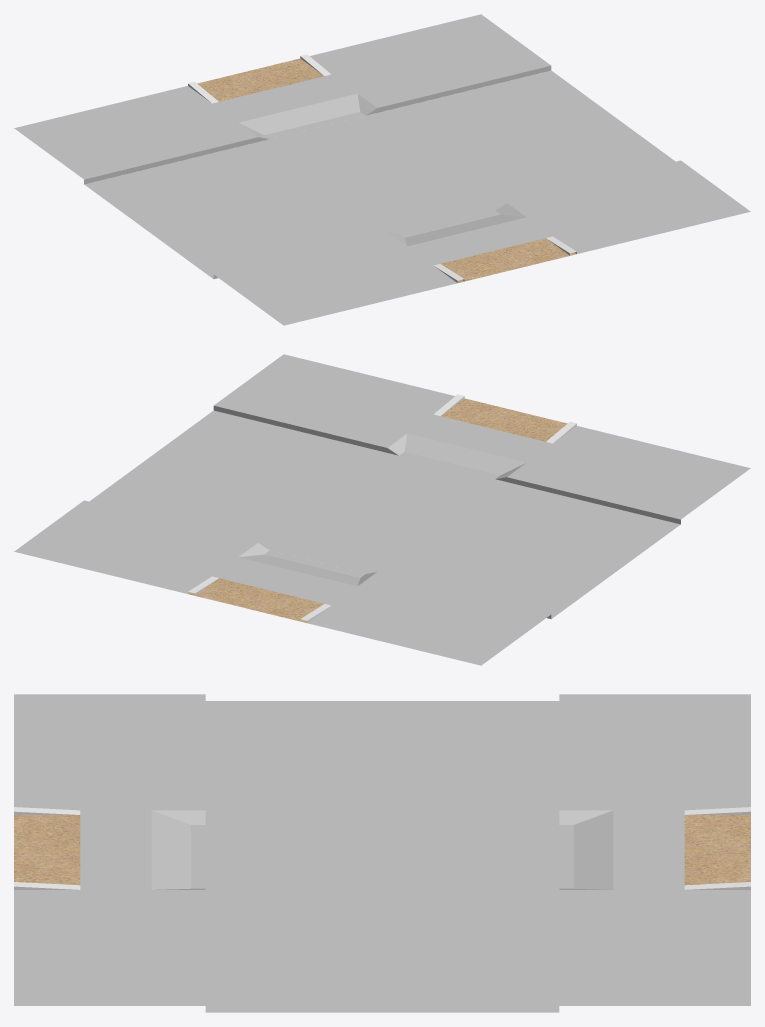
The model's file is Park_Gates_2.fbx.
The picture shows the model from 3 angles, top to bottom: view 1: azimuth 30°, elevation 25°; view 2: azimuth 150°, elevation 25°; view 3: azimuth 270°, elevation 25°; orthographic projection. The views are drawn at different scales.
Visible parts, largest first — view 1: Park_Gates_2; view 2: Park_Gates_2; view 3: Park_Gates_2.
Boxes of the visible parts, left/top/right/bottom form: Park_Gates_2: left=14, top=14, right=750, bottom=325; Park_Gates_2: left=14, top=354, right=750, bottom=665; Park_Gates_2: left=14, top=694, right=750, bottom=1012.
Bounding box in the file's own units: 2000 × 30 × 2000.
